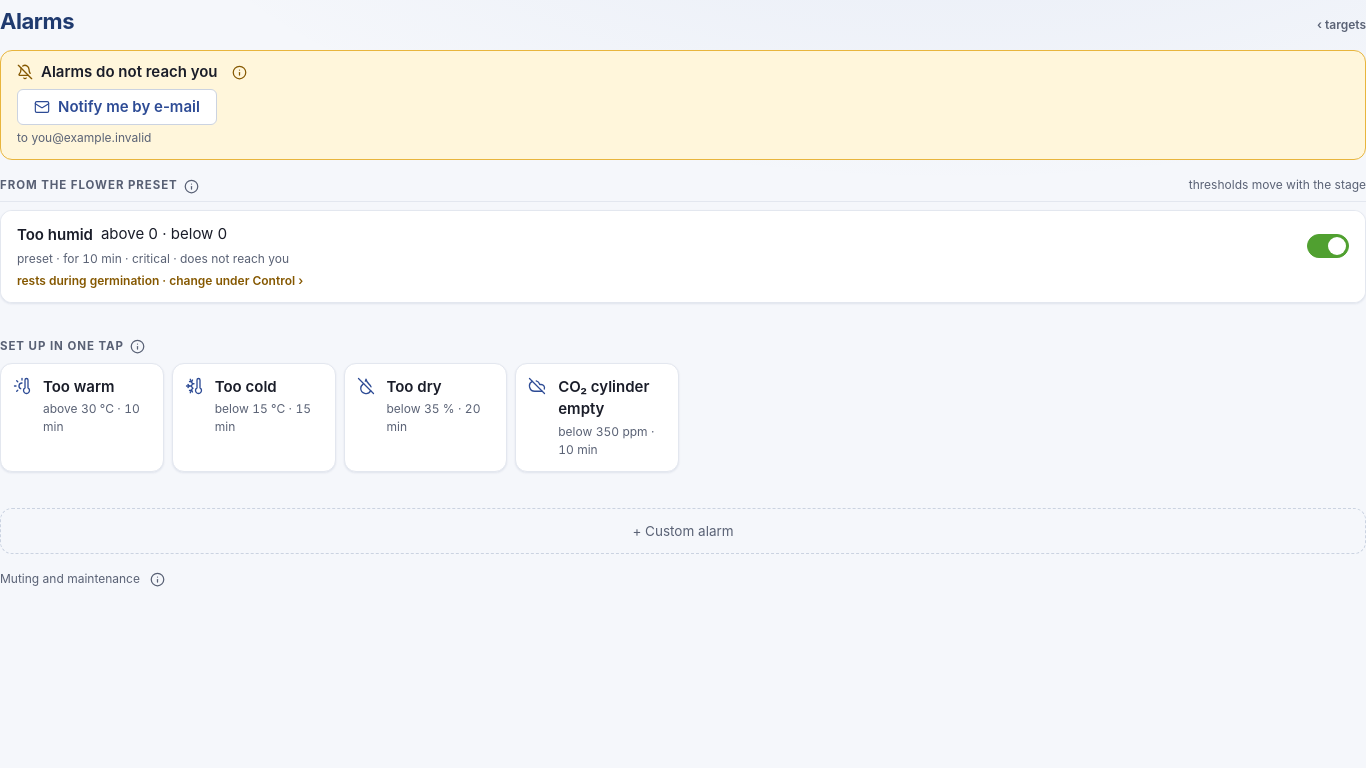
the rule sheet › opens a rule a stage wrote under the name the list shows, not the server´s English one
Click the button "Too humid": (55, 234) [17,223,1295,268]
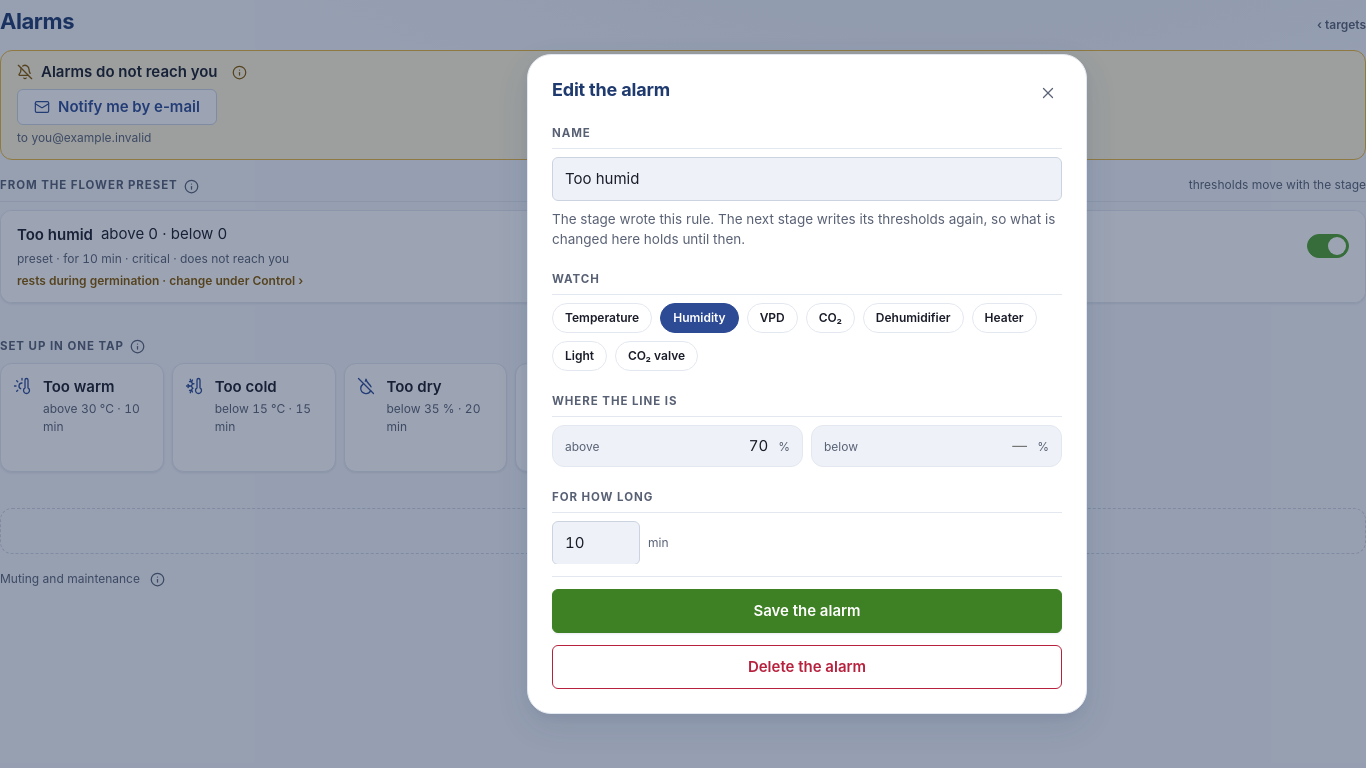
Check: the field named "Name" holds "Too humid", box [552,157,1062,201]
